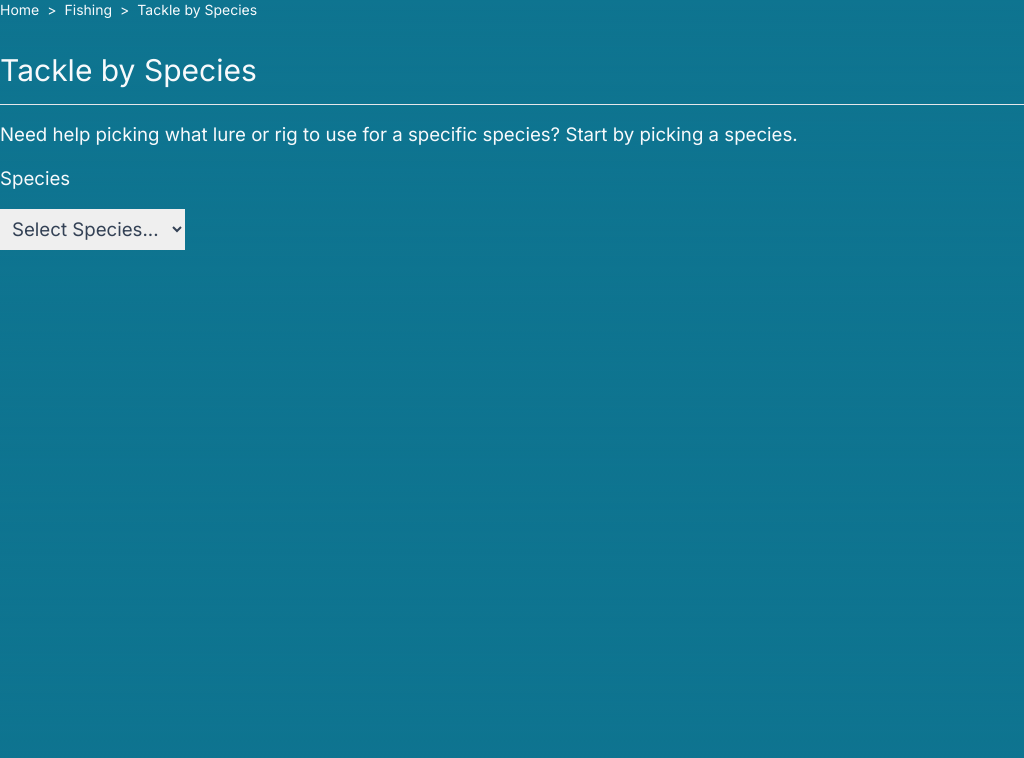
TackleBySpecies › renders after choosing a species
Select "largemouth bass" in the dropdown at point(92, 230), box [0,209,185,250]
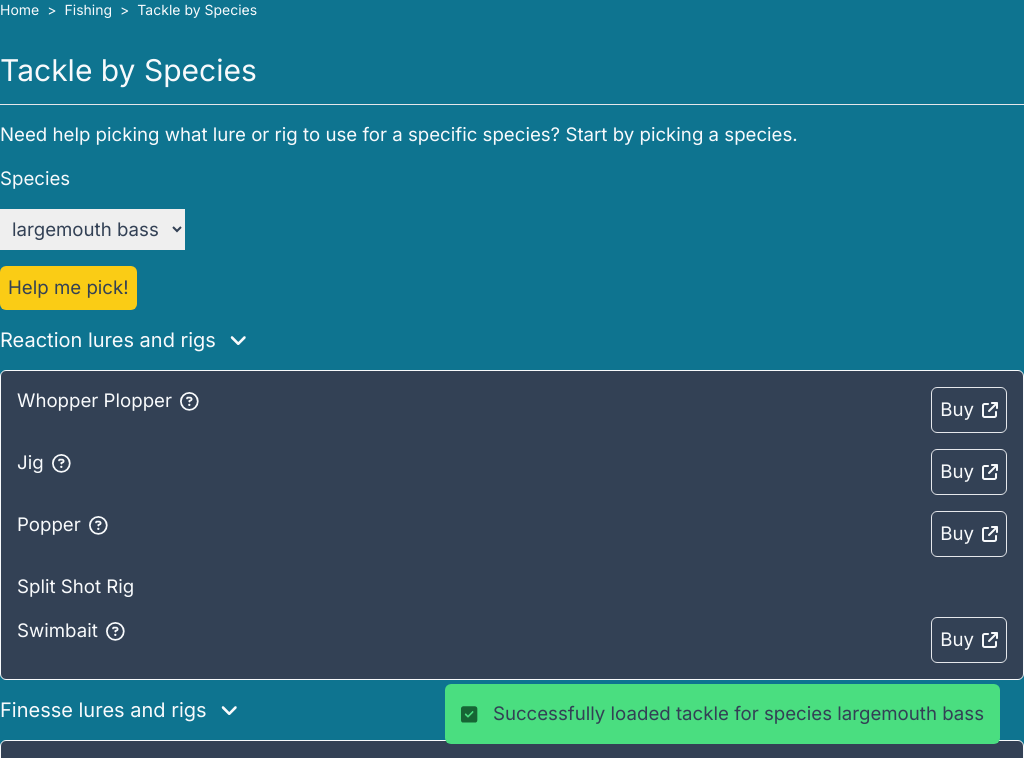
Check: the text "lures and rigs" is shown, box [0,328,216,352]
